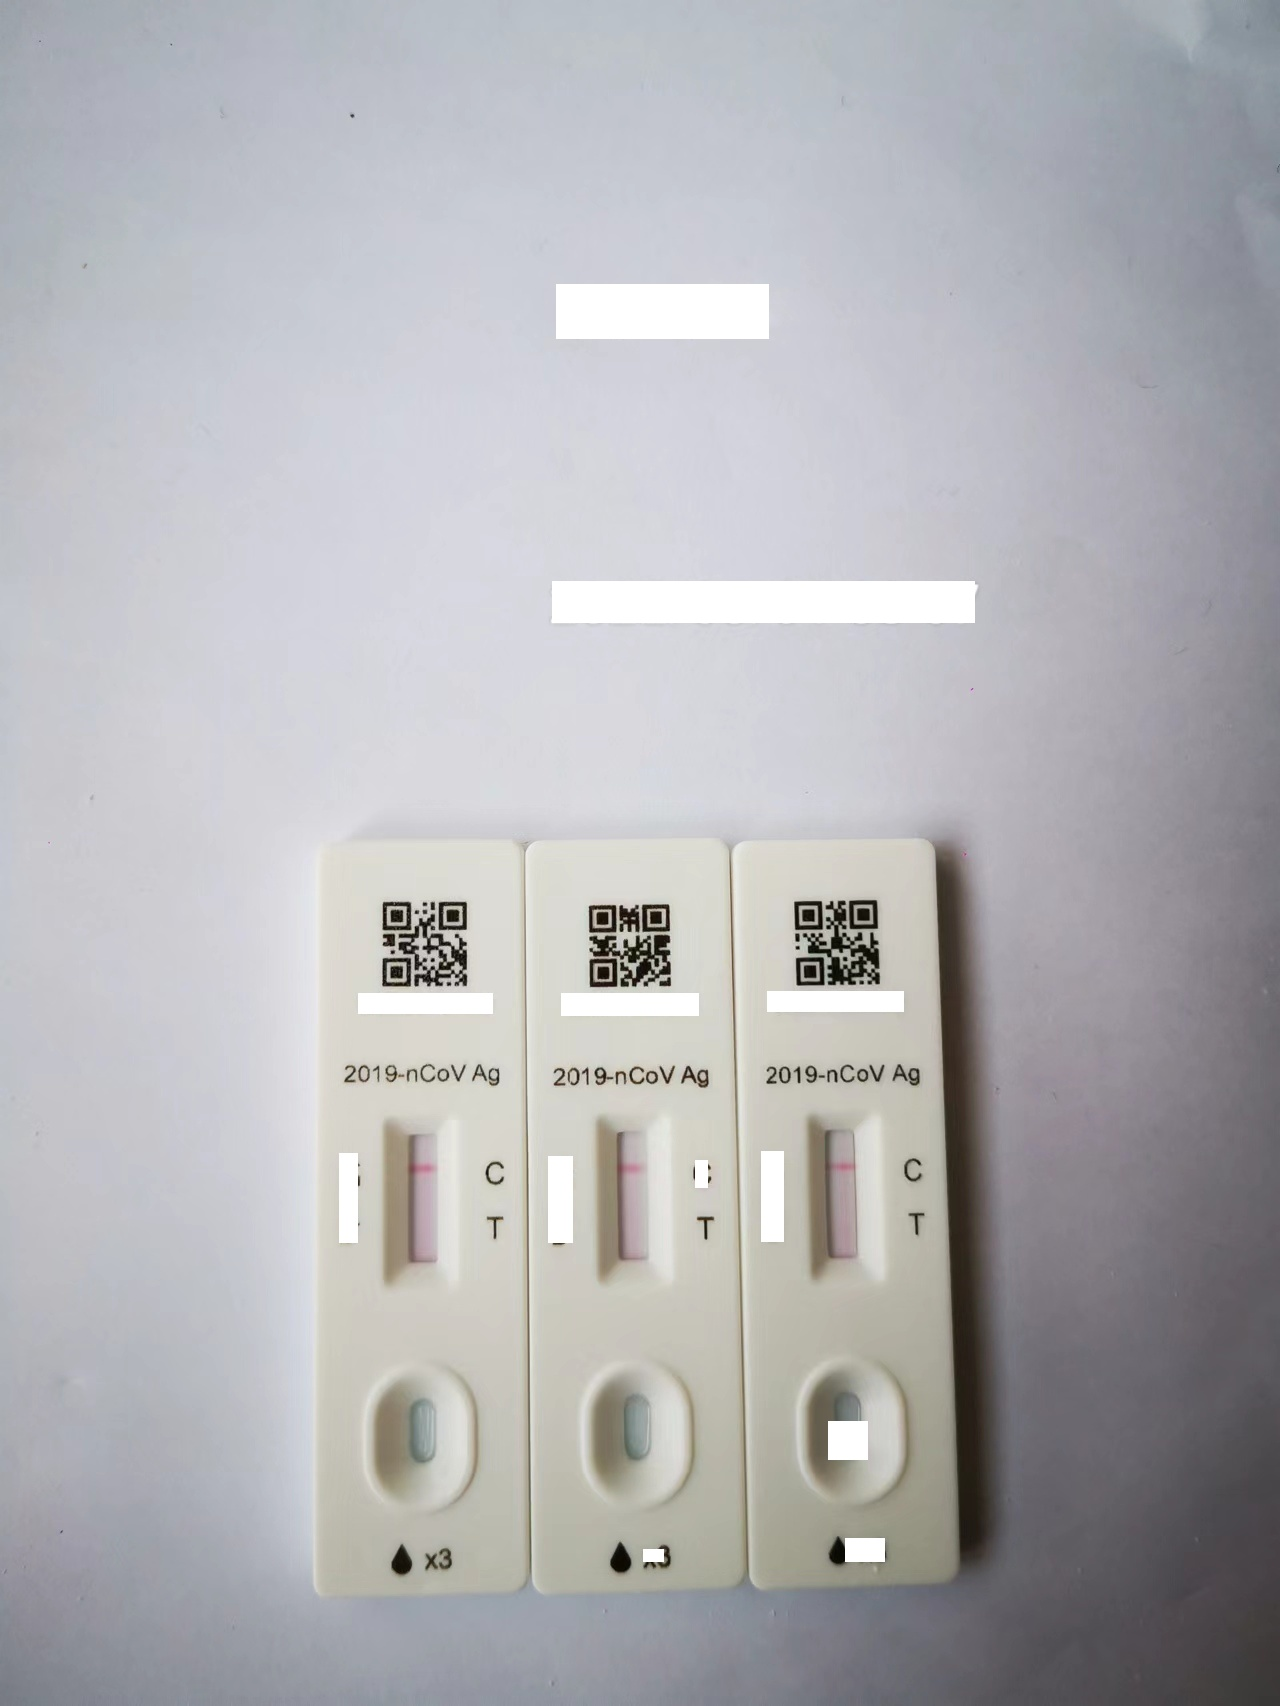negative: (383, 1113, 458, 1287), (596, 1113, 666, 1280), (808, 1110, 877, 1277)
